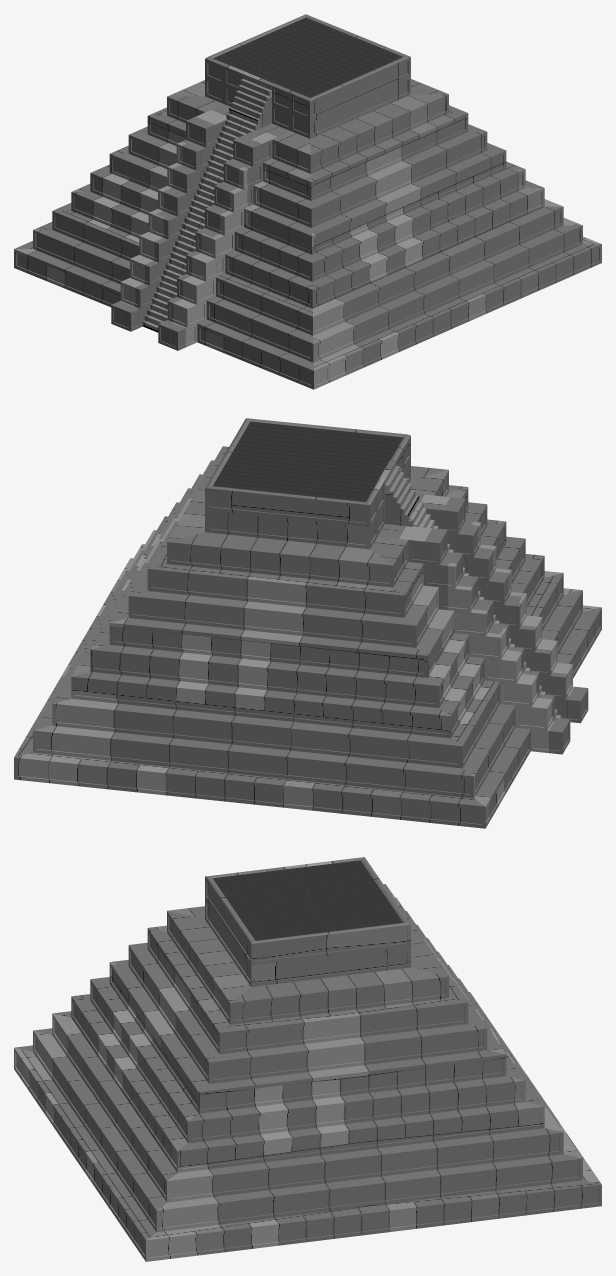
The model's file is Templo_Bicefala_v2.glb.
The picture shows the model from 3 angles, top to bottom: view 1: azimuth 30°, elevation 25°; view 2: azimuth 150°, elevation 25°; view 3: azimuth 270°, elevation 25°; orthographic projection. The views are drawn at different scales.
Parts seen in each view (by area): view 1: Templo_Bicefala_v2_BASE, Templo_Bicefala_v2_BLOQUES, Templo_Bicefala_v2_PISO, Templo_Bicefala_v2_ESCALERA; view 2: Templo_Bicefala_v2_BASE, Templo_Bicefala_v2_BLOQUES, Templo_Bicefala_v2_PISO, Templo_Bicefala_v2_ESCALERA; view 3: Templo_Bicefala_v2_BASE, Templo_Bicefala_v2_PISO.
Part boxes in pixels (bbox=[...]): Templo_Bicefala_v2_BASE: bbox=[14, 14, 601, 389]; Templo_Bicefala_v2_BLOQUES: bbox=[111, 104, 290, 350]; Templo_Bicefala_v2_PISO: bbox=[213, 17, 402, 97]; Templo_Bicefala_v2_ESCALERA: bbox=[142, 74, 271, 332]; Templo_Bicefala_v2_BASE: bbox=[14, 418, 601, 828]; Templo_Bicefala_v2_BLOQUES: bbox=[378, 493, 588, 754]; Templo_Bicefala_v2_PISO: bbox=[213, 421, 402, 501]; Templo_Bicefala_v2_ESCALERA: bbox=[385, 461, 561, 718]; Templo_Bicefala_v2_BASE: bbox=[14, 857, 601, 1261]; Templo_Bicefala_v2_PISO: bbox=[213, 860, 402, 940].
Size of the model in its own units: 98.86 by 44.21 by 98.86.
Materials: 4 (3 with a texture image).
